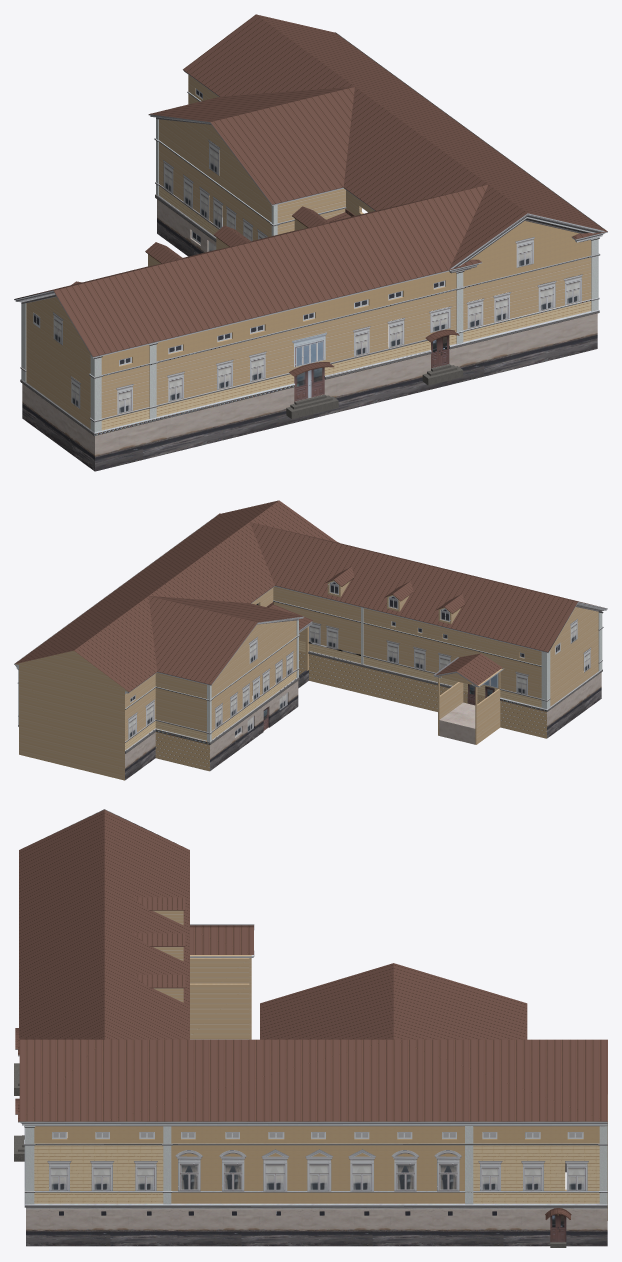
Rendered from isokatu_17.dae.
3 renders of one model, top to bottom at view 1: azimuth 30°, elevation 25°; view 2: azimuth 150°, elevation 25°; view 3: azimuth 270°, elevation 25°, orthographic. The views are drawn at different scales.
Visible parts, largest first — view 1: Object_1; view 2: Object_1; view 3: Object_1.
Part boxes in pixels (bbox=[...]): Object_1: bbox=[14, 14, 607, 471]; Object_1: bbox=[14, 500, 607, 780]; Object_1: bbox=[14, 809, 607, 1247].
Size of the model in its own units: 39.91 by 36.71 by 11.52.
Materials: 9 (9 with a texture image).
